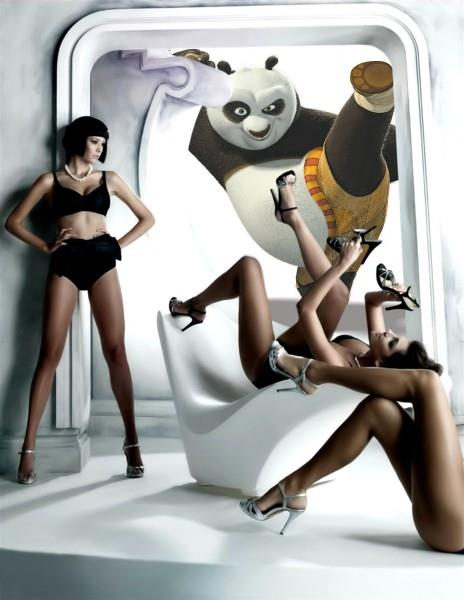Kung_Fu_Panda: (165, 37, 403, 278)
